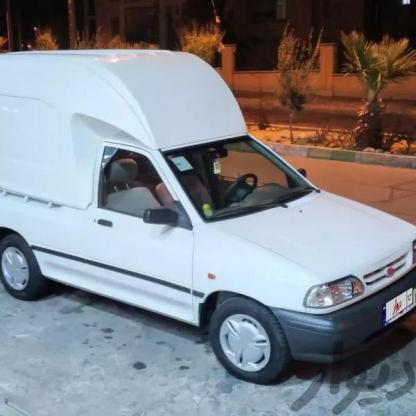Car: (0, 54, 416, 365)
